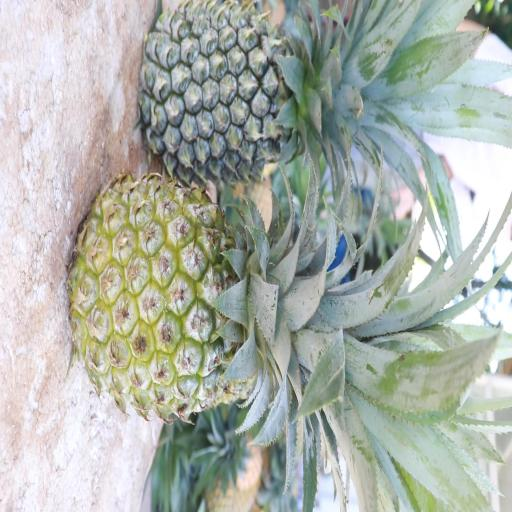------------------------------: (63, 172, 359, 428)
